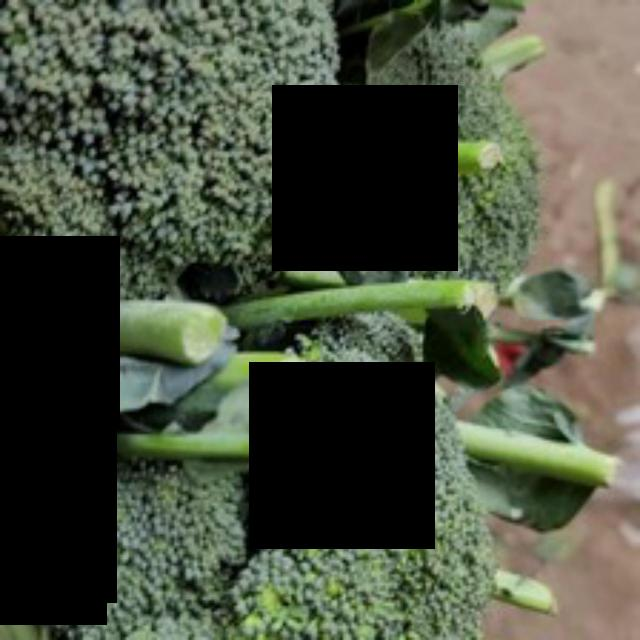broccoli: (0, 0, 342, 326)
